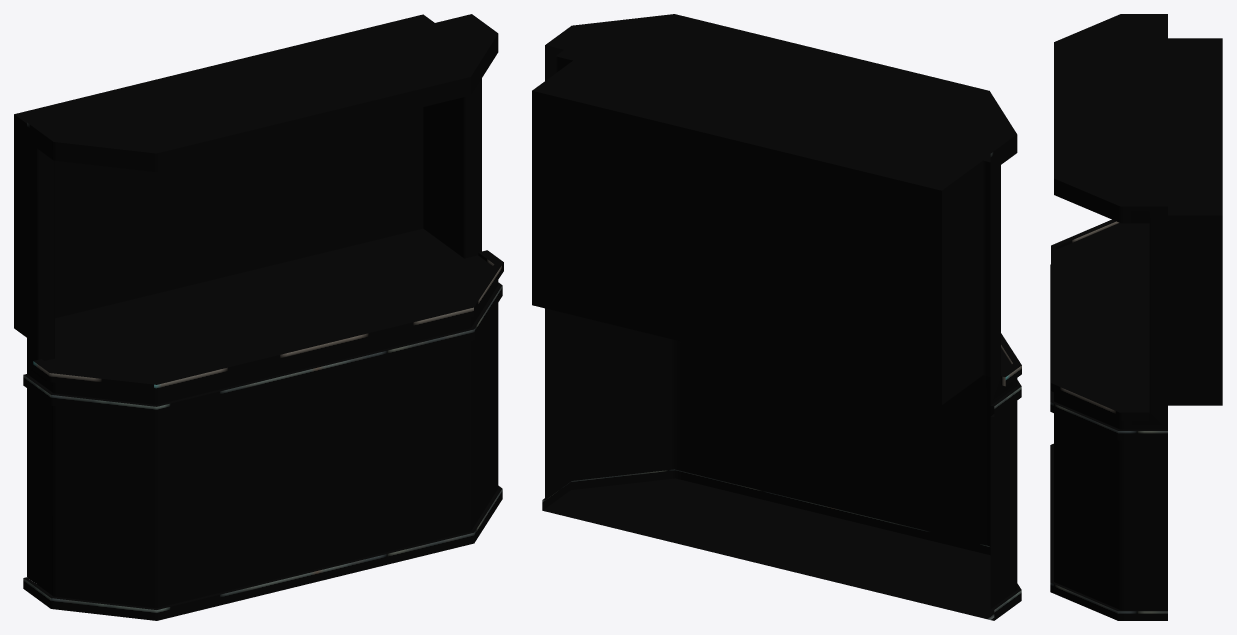
The model's file is Pagoda_Body_Tile_Door_2500x2500_A.FBX.
3 views of the same model, side by side, from view 1: azimuth 30°, elevation 25°; view 2: azimuth 150°, elevation 25°; view 3: azimuth 270°, elevation 25° (orthographic). The views are drawn at different scales.
Visible parts, largest first — view 1: Geometry_Pagoda_Body_Tile_Door_2500x2500_A_LOD00; view 2: Geometry_Pagoda_Body_Tile_Door_2500x2500_A_LOD00; view 3: Geometry_Pagoda_Body_Tile_Door_2500x2500_A_LOD00.
Boxes of the visible parts, <box> form: Geometry_Pagoda_Body_Tile_Door_2500x2500_A_LOD00: <box>14,14,503,620</box>; Geometry_Pagoda_Body_Tile_Door_2500x2500_A_LOD00: <box>532,14,1021,620</box>; Geometry_Pagoda_Body_Tile_Door_2500x2500_A_LOD00: <box>1050,14,1222,620</box>.
Size of what is drawn, in the model's own units: 2553 by 2500 by 945.
